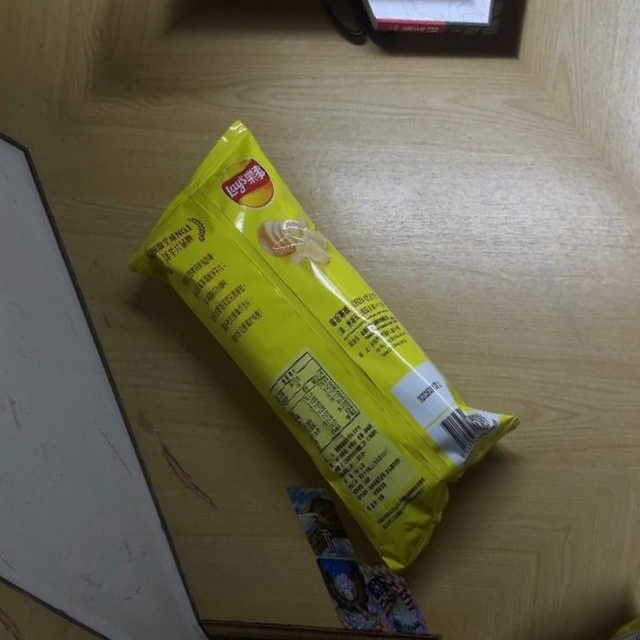Lay-s-original: (99, 104, 546, 582)
